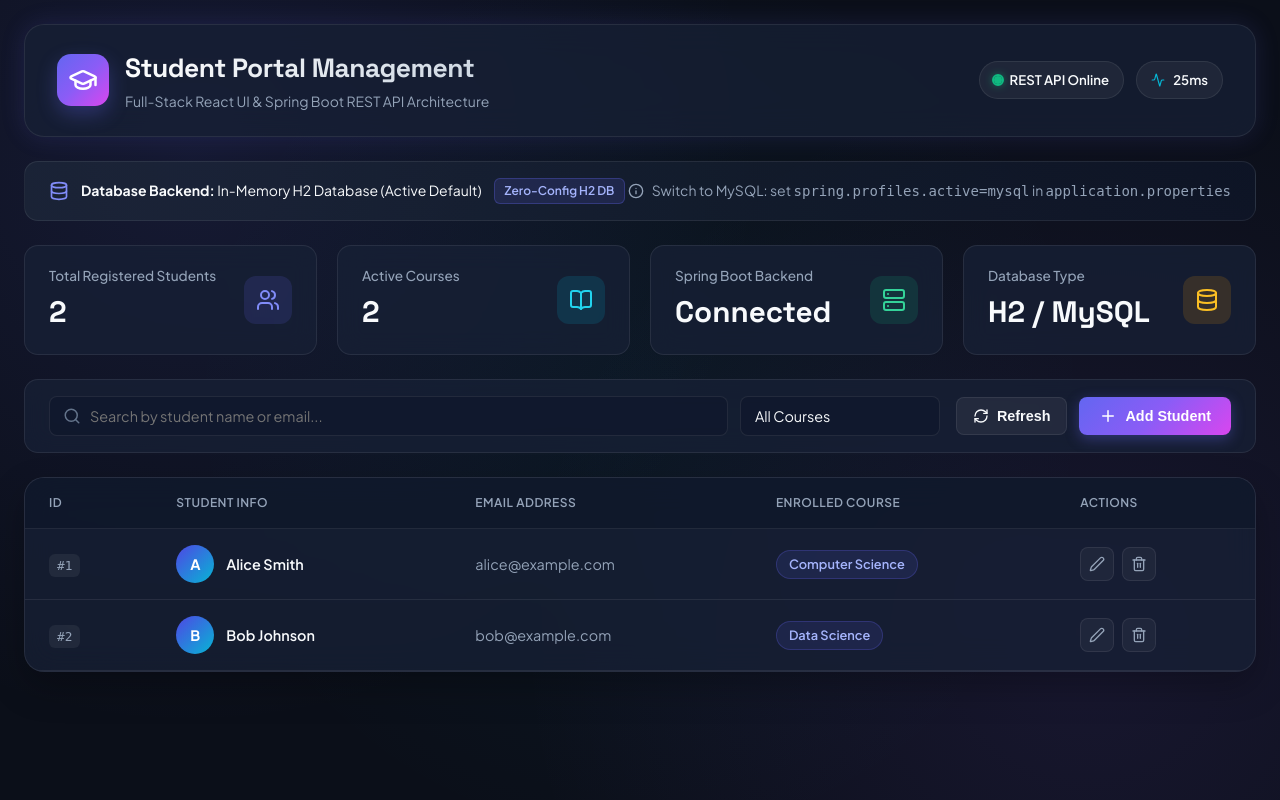
Test: Frontend Component Tests - App.jsx › opens add student modal when click Add Student button
Expected: the text "Alice Smith" is shown, [226,554,304,575]
Click the button "Add Student" at [1155, 416], box [1080,397,1231,435]
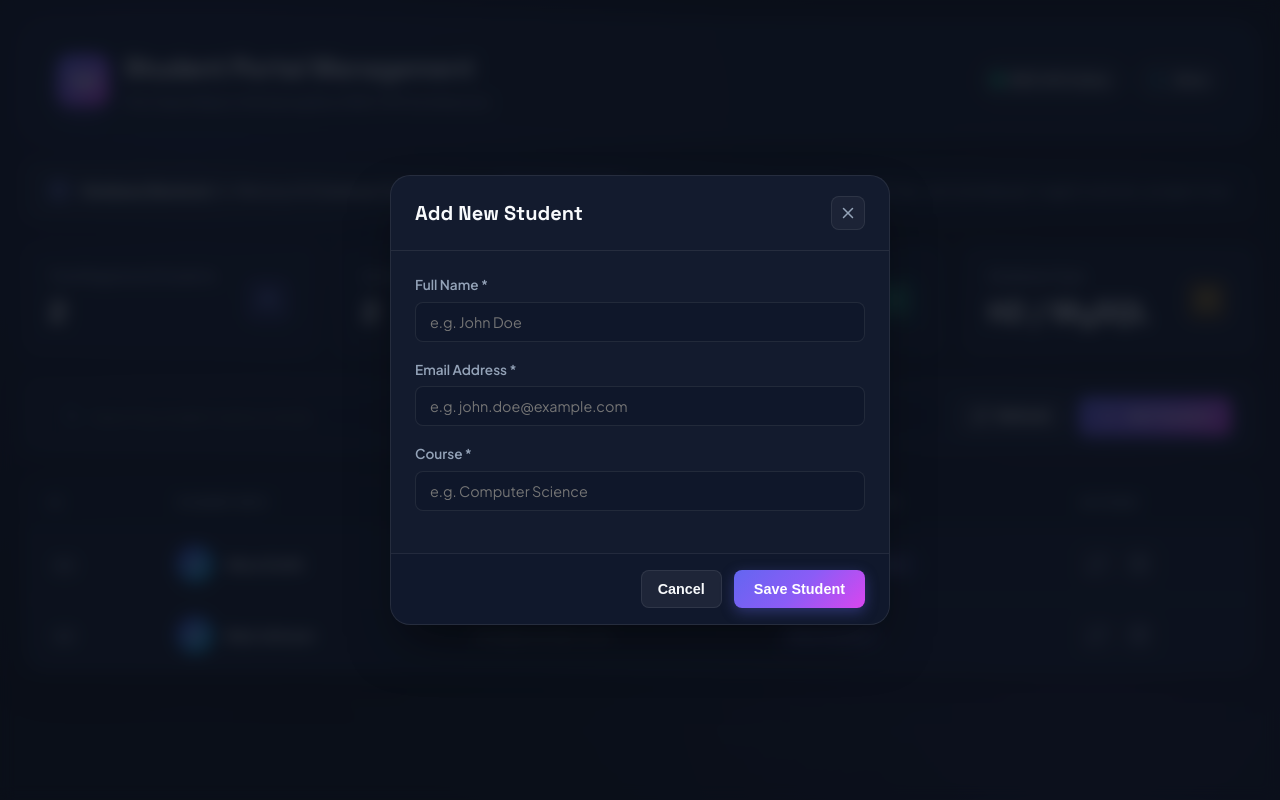
Expected: the heading "Add New Student" is shown, [415,198,583,228]
